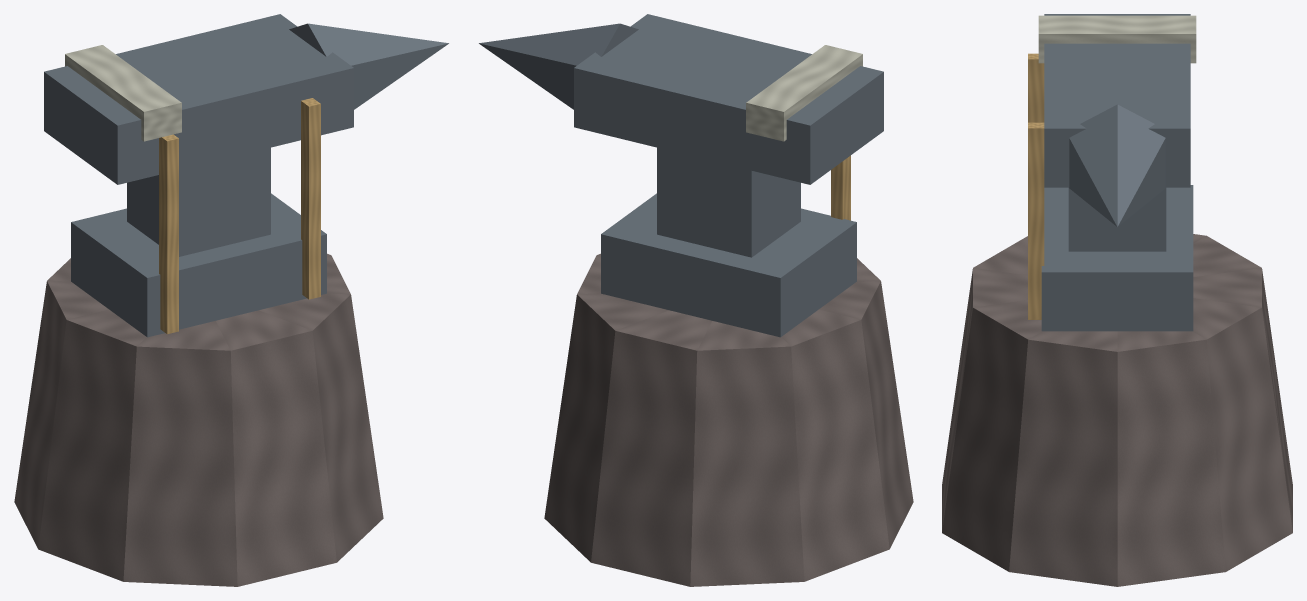
The model's file is lantern-watch-courtyard-smith-anvil__94.glb.
3 renders of one model, left to right at view 1: azimuth 30°, elevation 25°; view 2: azimuth 150°, elevation 25°; view 3: azimuth 270°, elevation 25°, orthographic.
Visible parts, largest first — view 1: lantern-watch-smith-anvil; view 2: lantern-watch-smith-anvil; view 3: lantern-watch-smith-anvil.
Boxes of the visible parts, x1,y1,x2,y2 form: lantern-watch-smith-anvil: [14, 14, 448, 586]; lantern-watch-smith-anvil: [479, 14, 913, 586]; lantern-watch-smith-anvil: [942, 14, 1292, 586].
Bounding box in the file's own units: 0.87 × 0.93 × 0.6467.
4 materials, 3 textured.
